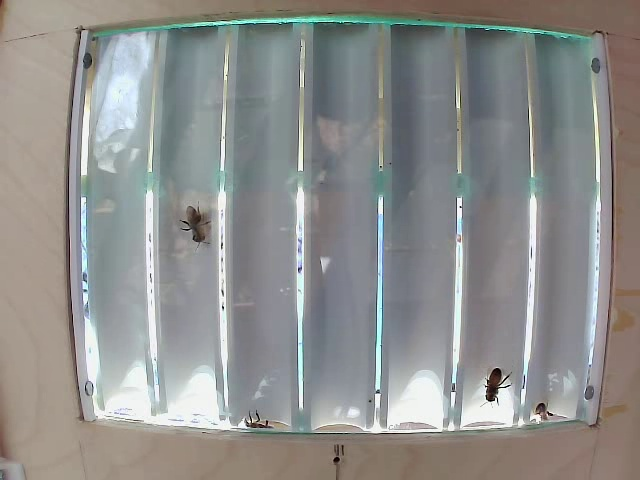bee: (179, 193, 216, 251), (487, 366, 514, 410)
